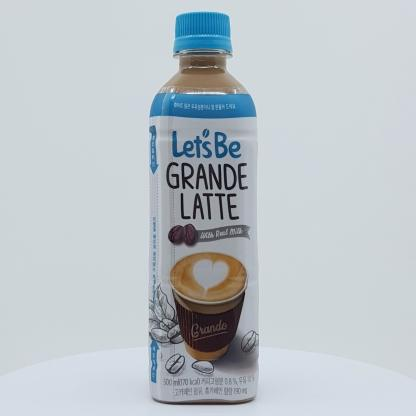--------500ML: (147, 11, 260, 405)
